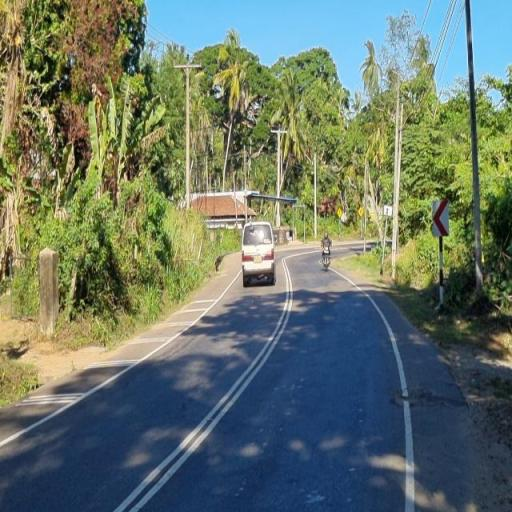double_white_line: (110, 250, 298, 512)
